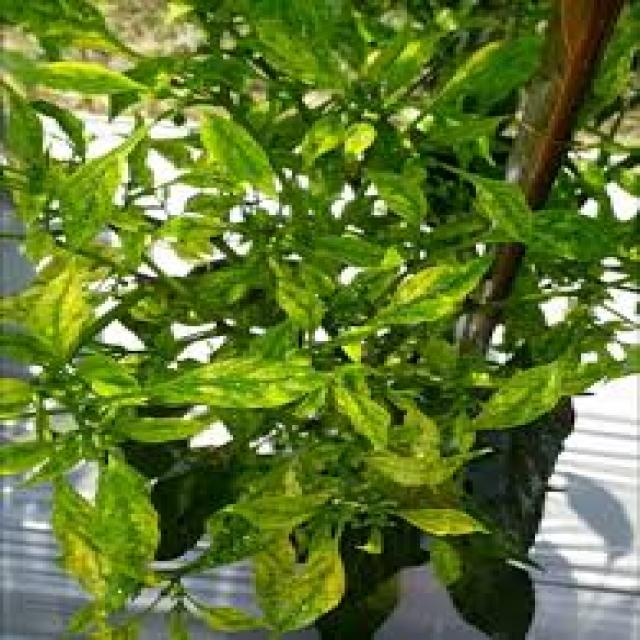virus_kuning: (368, 250, 489, 336), (150, 359, 342, 412), (15, 259, 110, 356), (92, 456, 158, 592), (269, 550, 363, 640), (472, 362, 572, 437), (394, 508, 508, 538)
